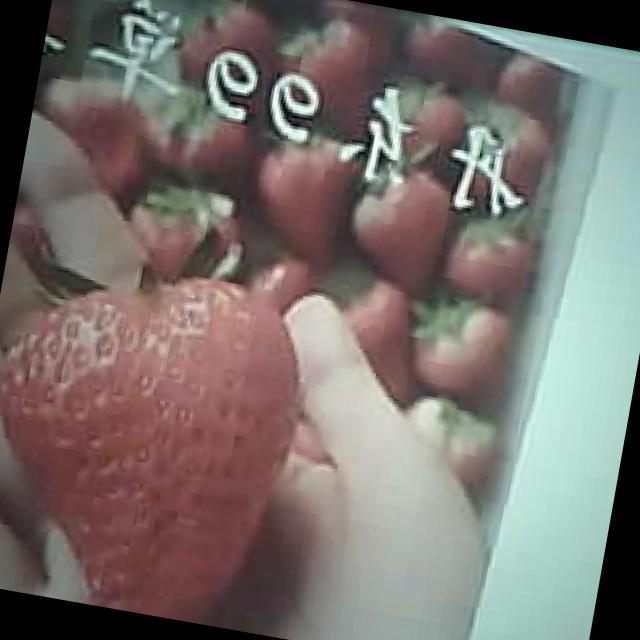strawberry: (0, 243, 316, 633)
